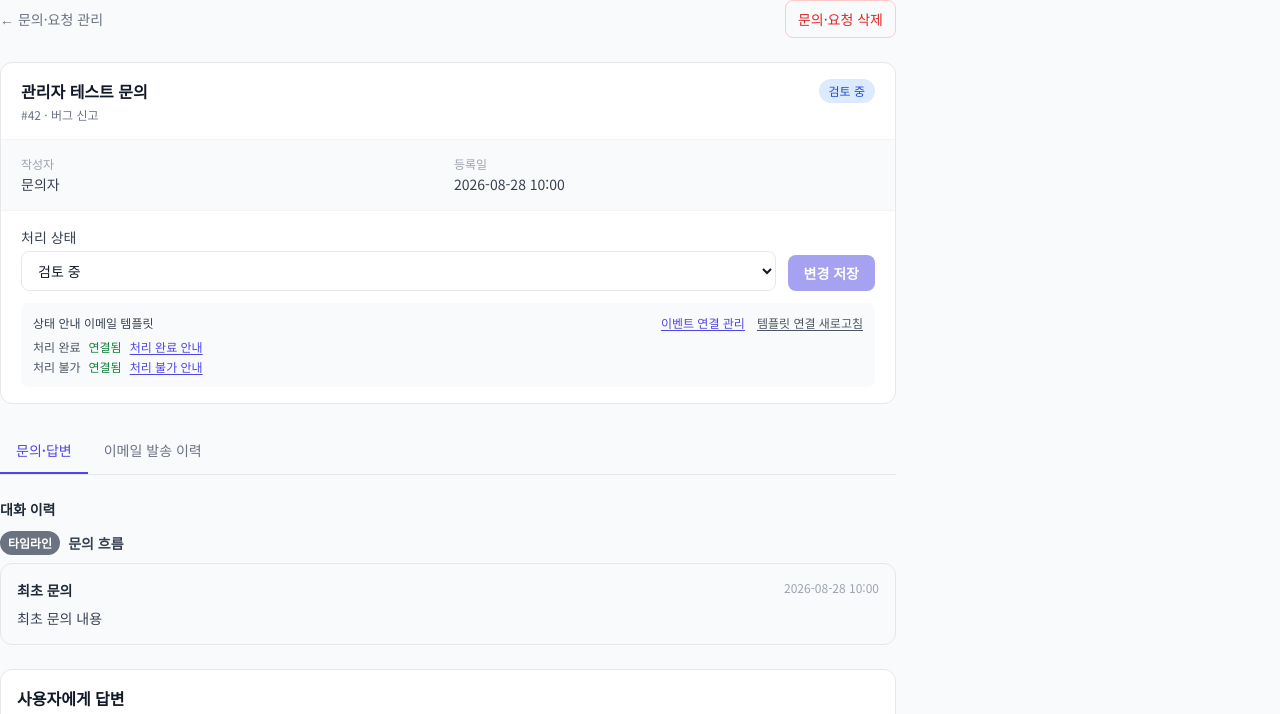
Test: AdminInquiryDetailPage › 답변 없는 종료 확인이 성공하면 상태 성공 메시지로 focus를 한 번 이동한다
Select "처리 완료" in the dropdown labelled "처리 상태" at coordinates (398, 271), box x1=21 y1=251 x2=776 y2=291
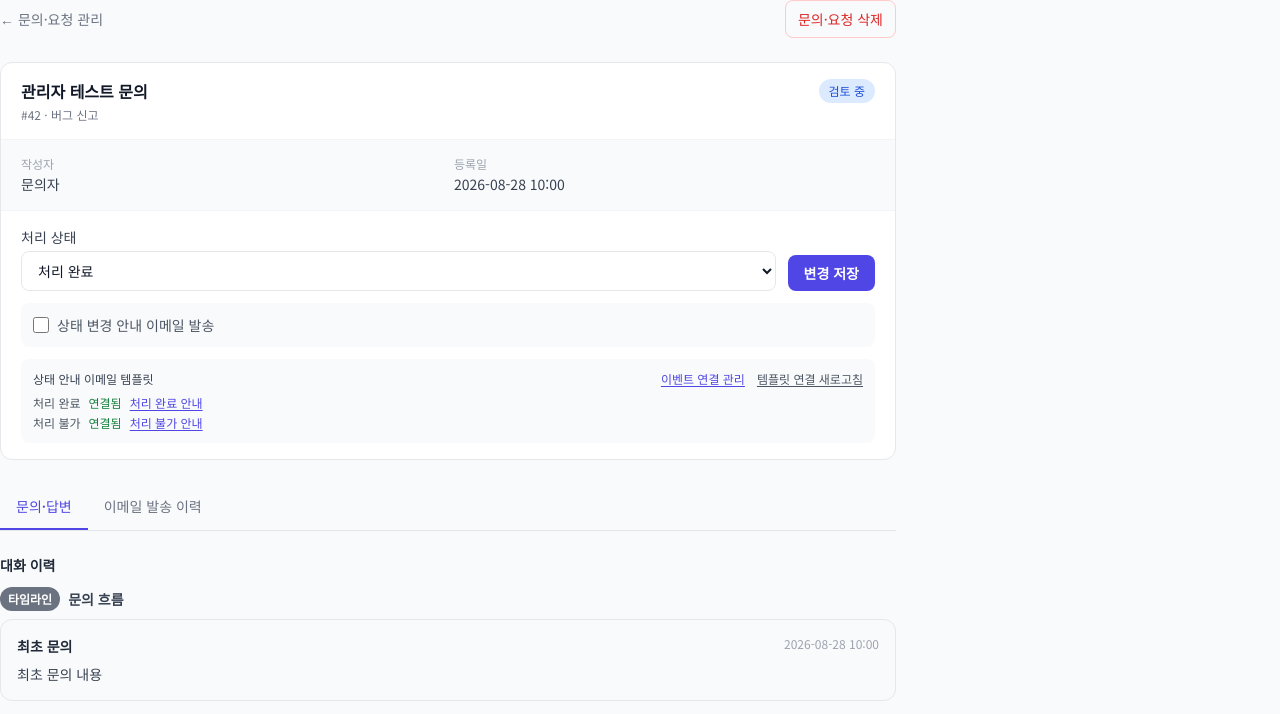
Click the button "변경 저장" at coordinates (831, 273), box x1=788 y1=255 x2=875 y2=291
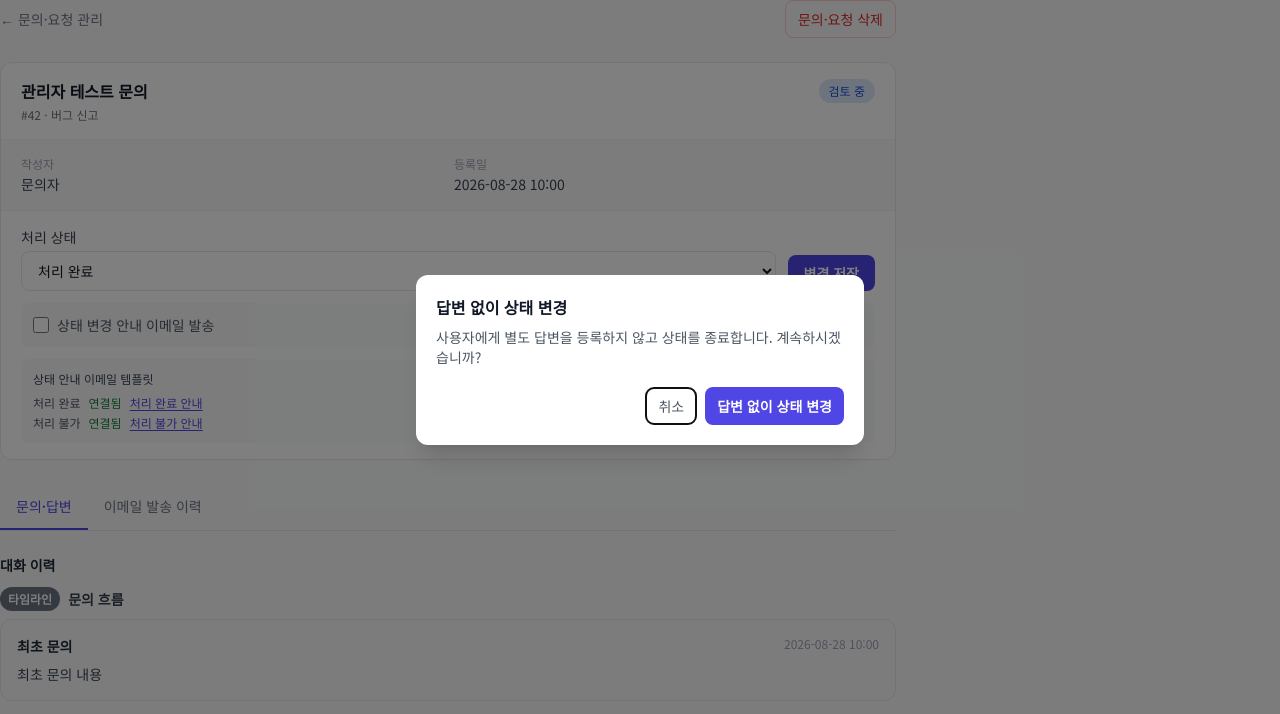
Click the button "답변 없이 상태 변경" at coordinates (775, 406), box x1=705 y1=387 x2=844 y2=425
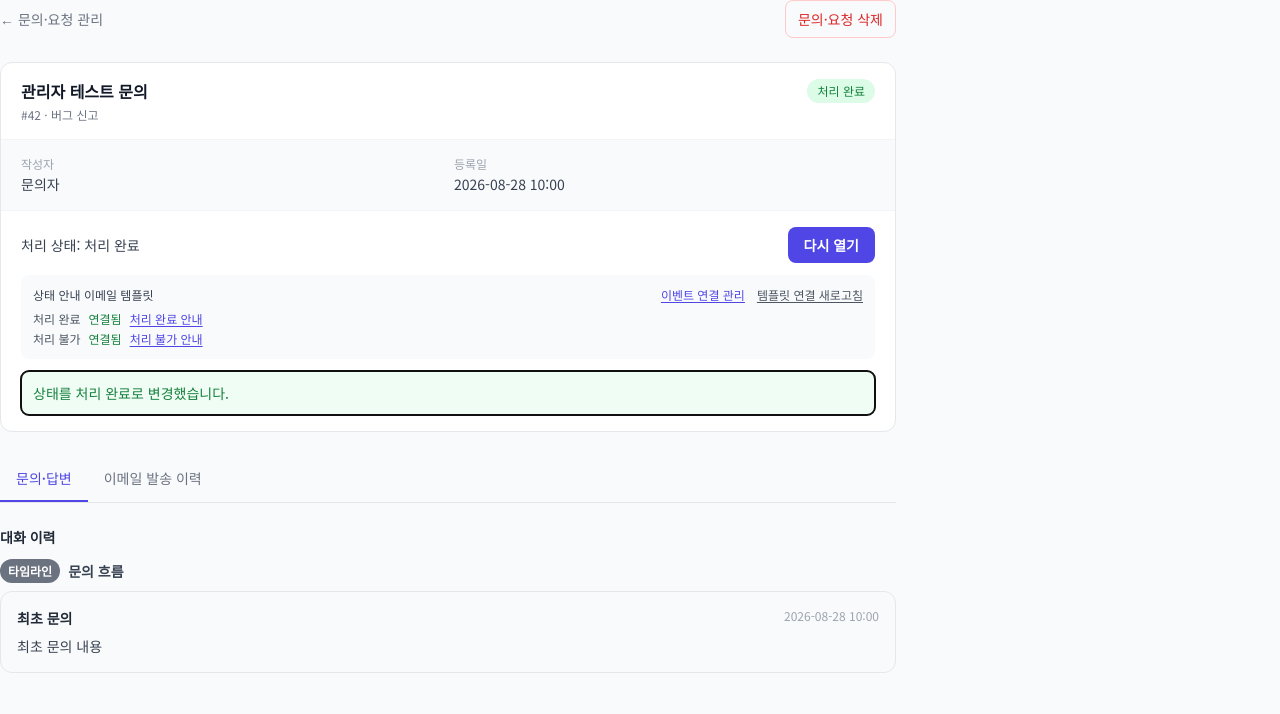
Check: the message reads "상태를 처리 완료로 변경했습니다.", box x1=33 y1=383 x2=229 y2=403
